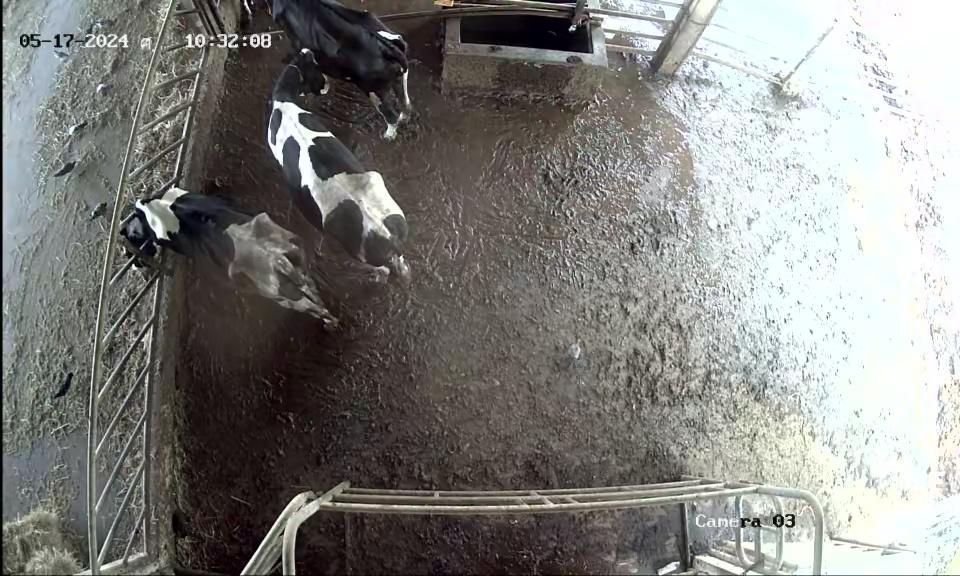eat: (79, 183, 190, 263)
stand: (265, 48, 422, 278), (247, 0, 424, 128)
